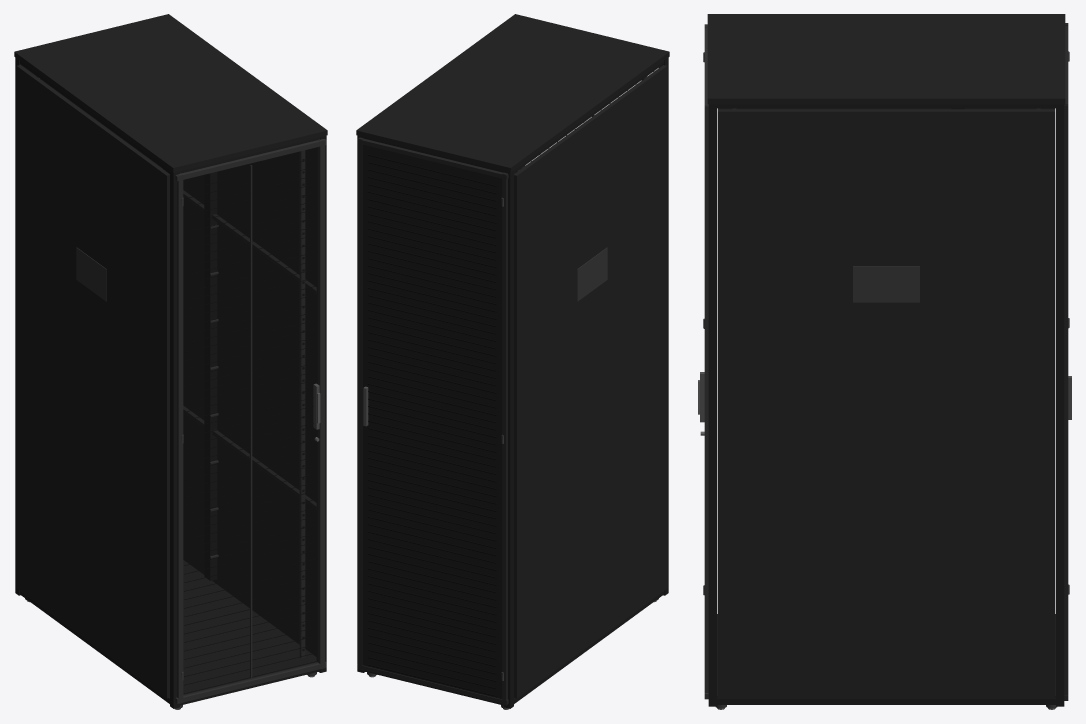
The model's file is rack.glb.
The picture shows the model from 3 angles, left to right: view 1: azimuth 30°, elevation 25°; view 2: azimuth 150°, elevation 25°; view 3: azimuth 270°, elevation 25°; orthographic projection. The views are drawn at different scales.
Bounding box in the file's own units: 0.6191 × 2.03 × 1.12.
Materials: 2 (2 with a texture image).
